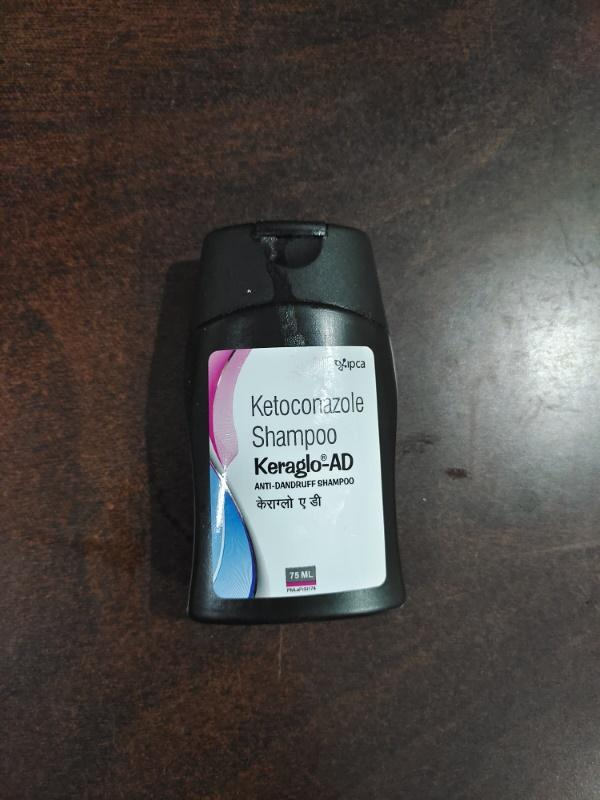KeraGlo: (173, 220, 424, 634)
